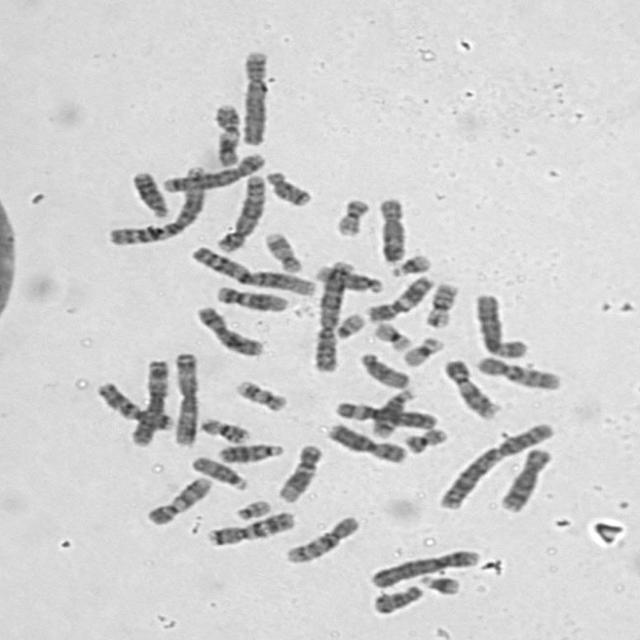A1: (102, 162, 212, 247), (187, 242, 320, 297)
A2: (436, 418, 558, 512), (308, 256, 354, 374)
A3: (128, 356, 172, 448), (168, 348, 202, 446)
B4: (367, 545, 483, 590), (235, 47, 272, 147)
B5: (158, 148, 269, 193), (211, 170, 269, 254)
C10: (281, 511, 364, 565), (471, 352, 564, 392)
C11: (362, 272, 437, 324), (210, 100, 243, 168)
C12: (274, 440, 325, 504), (212, 282, 292, 313)
C6: (471, 289, 531, 359), (330, 397, 440, 431)
C7: (94, 378, 176, 431), (204, 507, 298, 547)
C8: (496, 444, 555, 514), (373, 193, 410, 265)
C9: (439, 355, 502, 421), (143, 473, 215, 526)
D13: (126, 166, 172, 218), (214, 439, 286, 464)
D14: (367, 385, 418, 439), (311, 262, 385, 294)
D15: (187, 452, 250, 492), (356, 348, 413, 390)
E16: (421, 278, 462, 330), (196, 413, 253, 445)
E17: (231, 376, 290, 413), (260, 228, 305, 274)
E18: (262, 167, 315, 207), (368, 581, 426, 616)
F19: (398, 332, 446, 368), (369, 318, 414, 352)
F20: (331, 194, 373, 238), (400, 424, 450, 454)
G21: (414, 570, 464, 597), (386, 250, 434, 278)
G22: (231, 495, 275, 522), (331, 308, 367, 340)
X: (191, 302, 268, 358), (322, 419, 410, 465)
